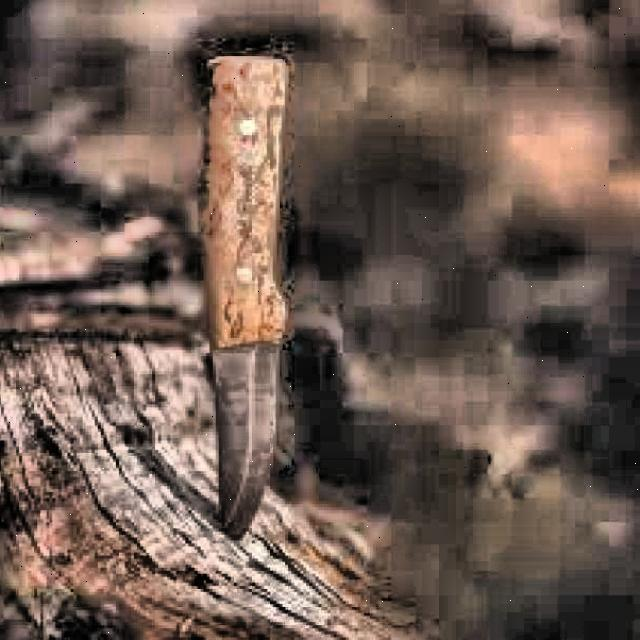knife: (205, 48, 284, 552)
